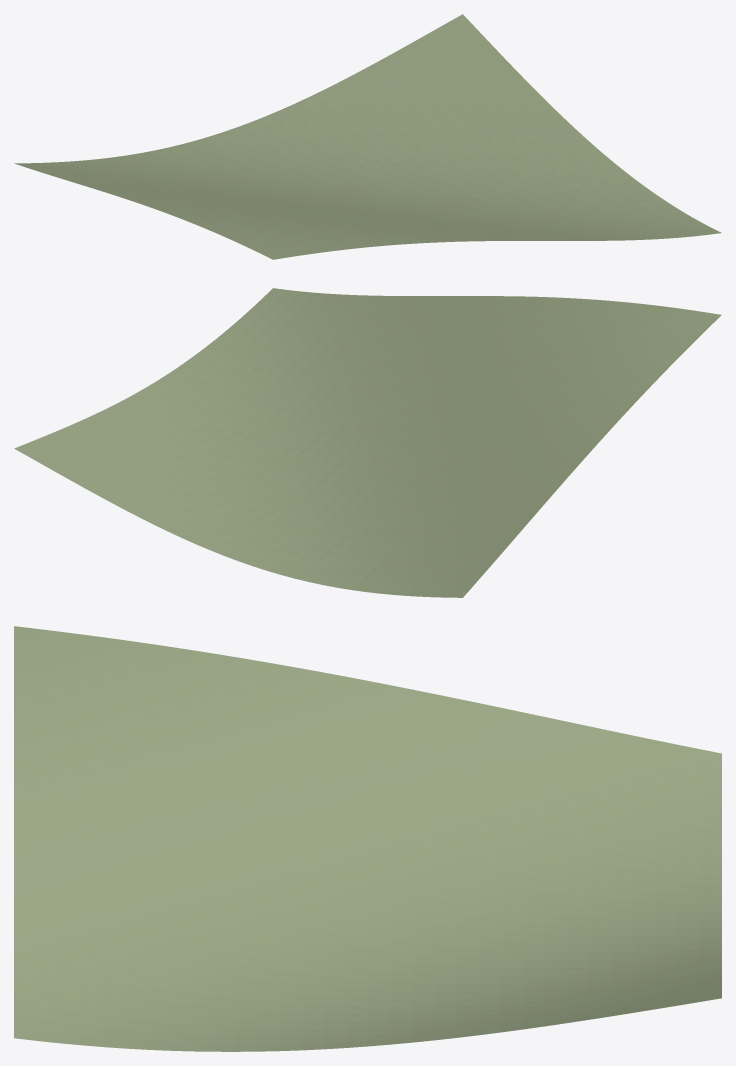
The model's file is expanse-8-9.glb.
3 renders of one model, top to bottom at view 1: azimuth 30°, elevation 25°; view 2: azimuth 150°, elevation 25°; view 3: azimuth 270°, elevation 25°, orthographic. The views are drawn at different scales.
Visible parts, largest first — view 1: expanse-8-9; view 2: expanse-8-9; view 3: expanse-8-9.
Boxes of the visible parts, x1,y1,x2,y2 form: expanse-8-9: [14, 14, 721, 259]; expanse-8-9: [14, 288, 721, 597]; expanse-8-9: [14, 626, 721, 1051].
Bounding box in the file's own units: 256 × 62.7 × 256.
